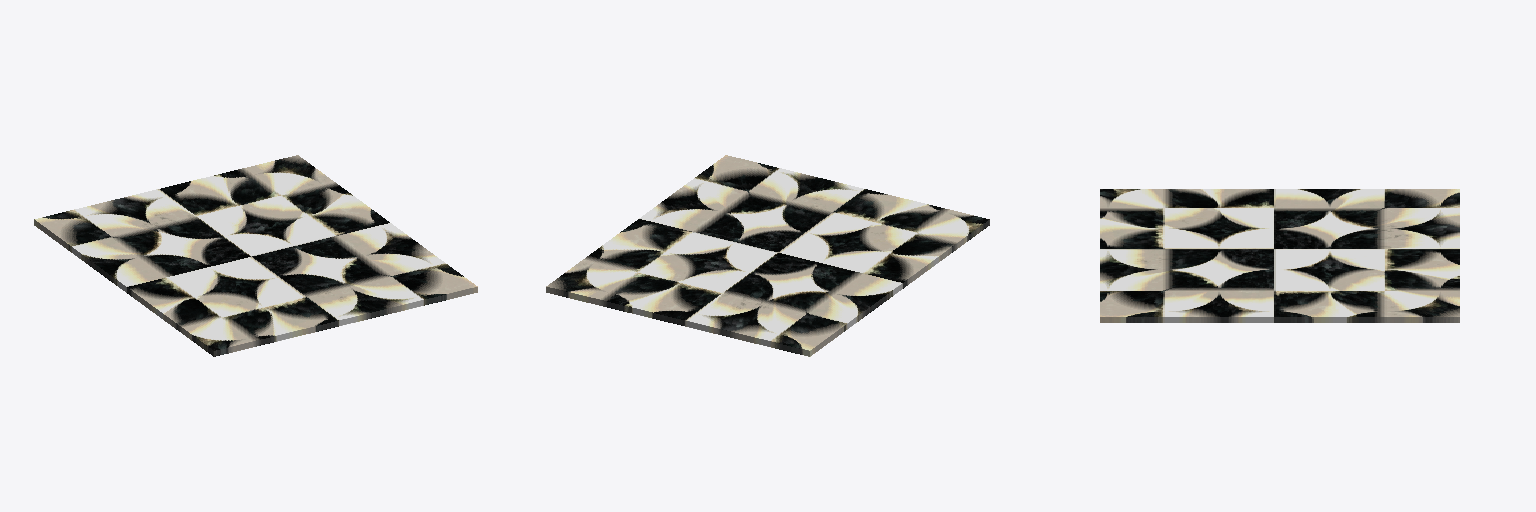
3 views of the same model, side by side, from view 1: azimuth 30°, elevation 25°; view 2: azimuth 150°, elevation 25°; view 3: azimuth 270°, elevation 25° (orthographic).
Visible parts, largest first — view 1: obj1; view 2: obj1; view 3: obj1.
Boxes of the visible parts, x1,y1,x2,y2 form: obj1: [34, 155, 477, 356]; obj1: [546, 155, 989, 356]; obj1: [1100, 189, 1459, 322].
Bounding box in the file's own units: 0.512 × 0.0115 × 0.6045.
1 materials, 1 textured.